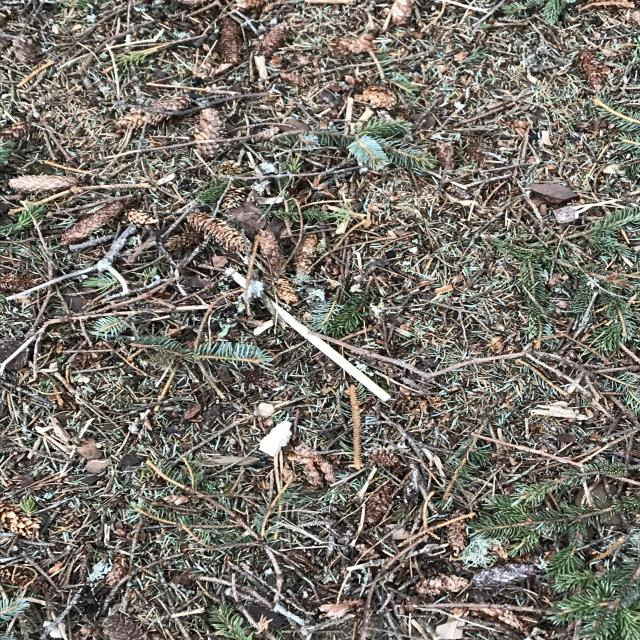litter: (299, 100, 640, 393)
